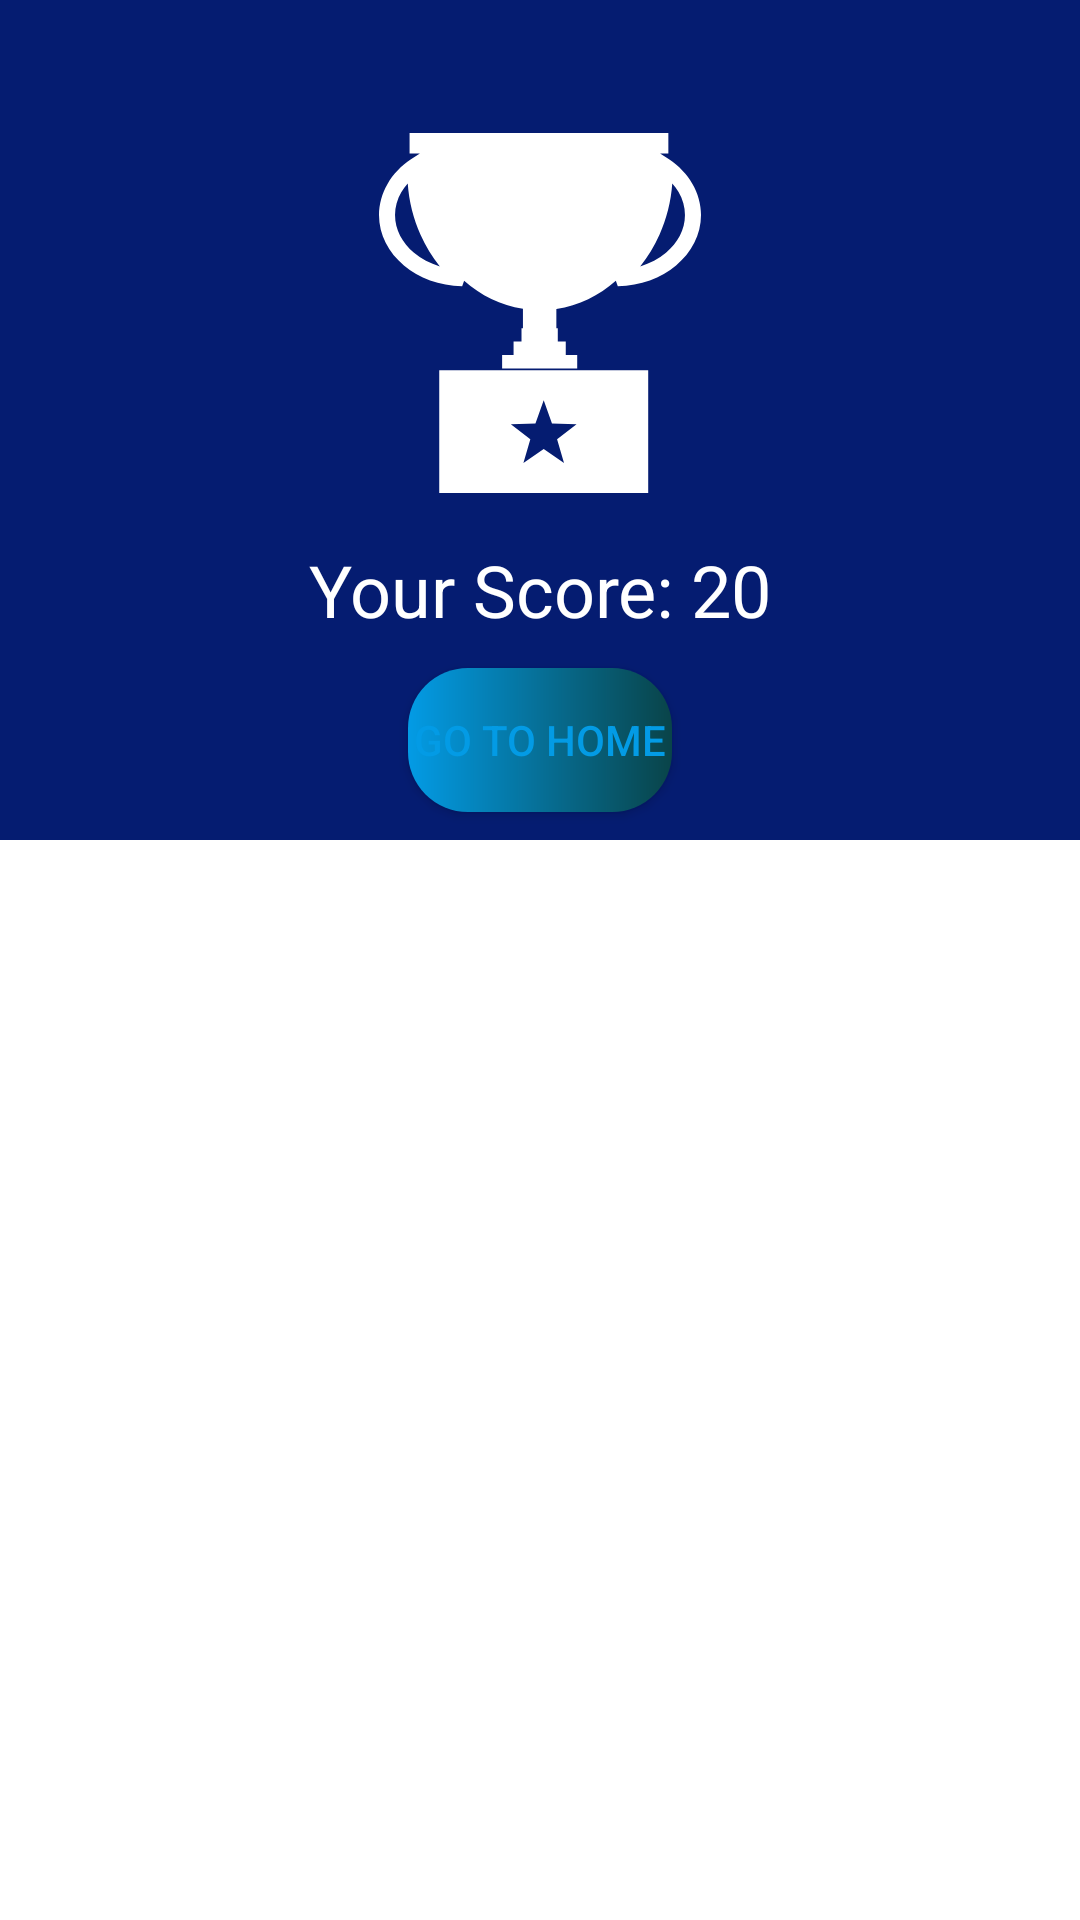

Screen size 1080 × 1920. Icon name, then its box in pixels as rect(x1, y1, x2, y2):
trophy: rect(379, 133, 701, 493)
